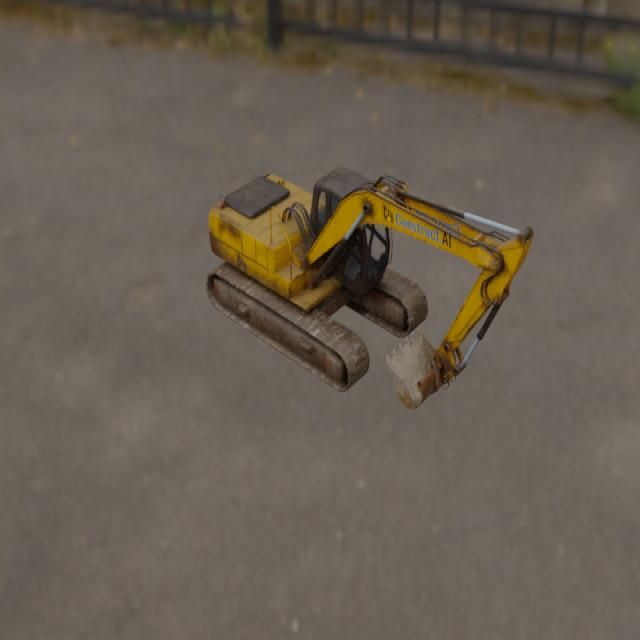excavator: (205, 166, 533, 410)
